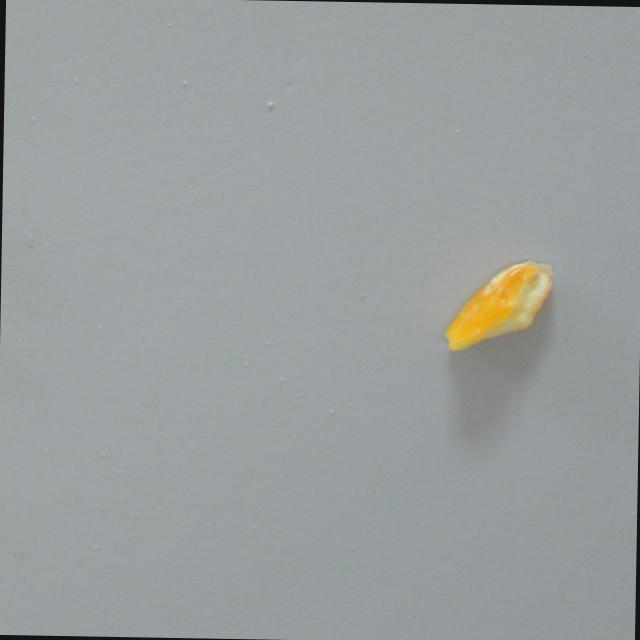pelicula: (423, 251, 572, 347)
